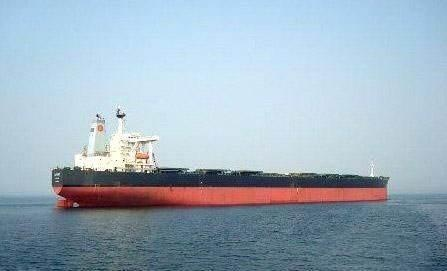Cargoship: (47, 104, 391, 213)
